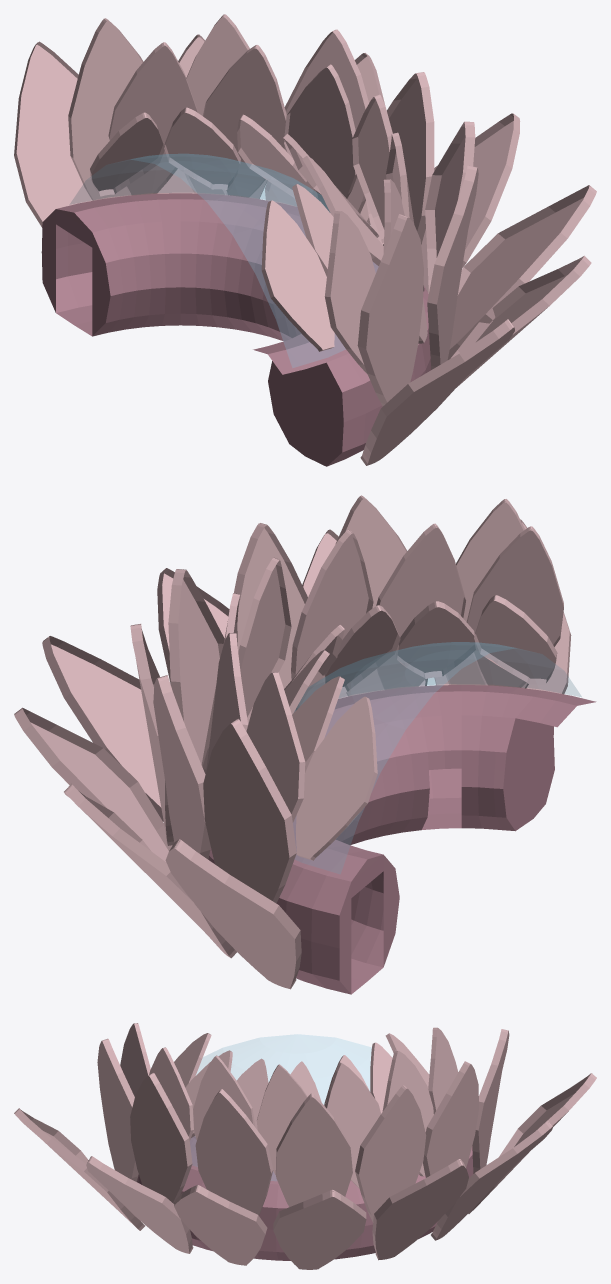
Rendered from galería_versión1.glb.
3 renders of one model, top to bottom at view 1: azimuth 30°, elevation 25°; view 2: azimuth 150°, elevation 25°; view 3: azimuth 270°, elevation 25°, orthographic. The views are drawn at different scales.
Visible parts, largest first — view 1: Torus.002; view 2: Torus.002; view 3: Torus.002.
Part boxes in pixels (box(x1,y1,x2,y2)): Torus.002: box(14, 14, 596, 466); Torus.002: box(14, 495, 596, 994); Torus.002: box(14, 1023, 596, 1269).
Bounding box in the file's own units: 241 × 167 × 444.
